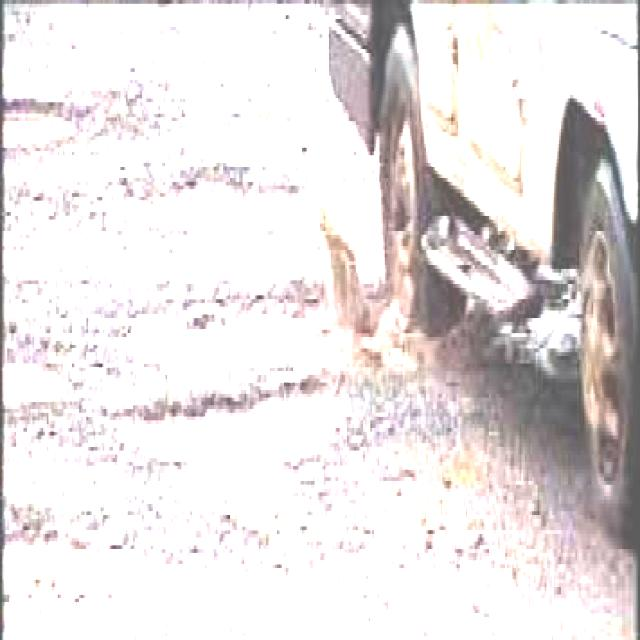Pothole: (118, 163, 386, 511)
